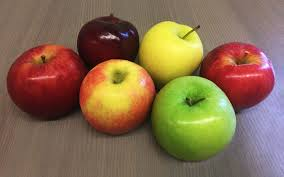apple: (149, 77, 233, 153), (84, 59, 154, 132), (7, 49, 88, 111), (204, 40, 271, 106), (143, 23, 207, 78), (75, 17, 141, 61)
